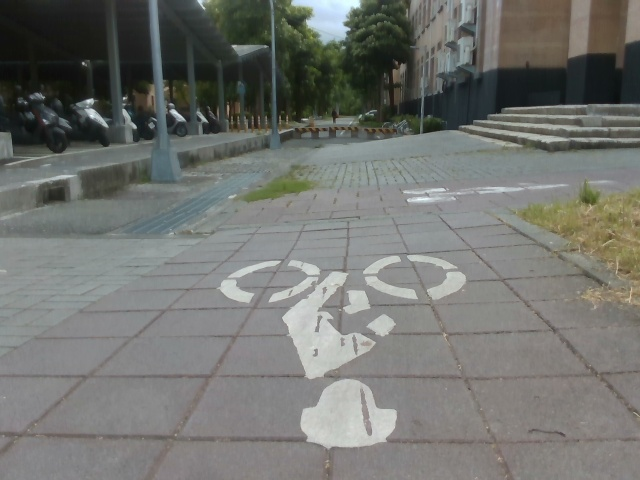grass: (136, 0, 441, 134), (497, 181, 639, 293)
road: (0, 136, 639, 479)
